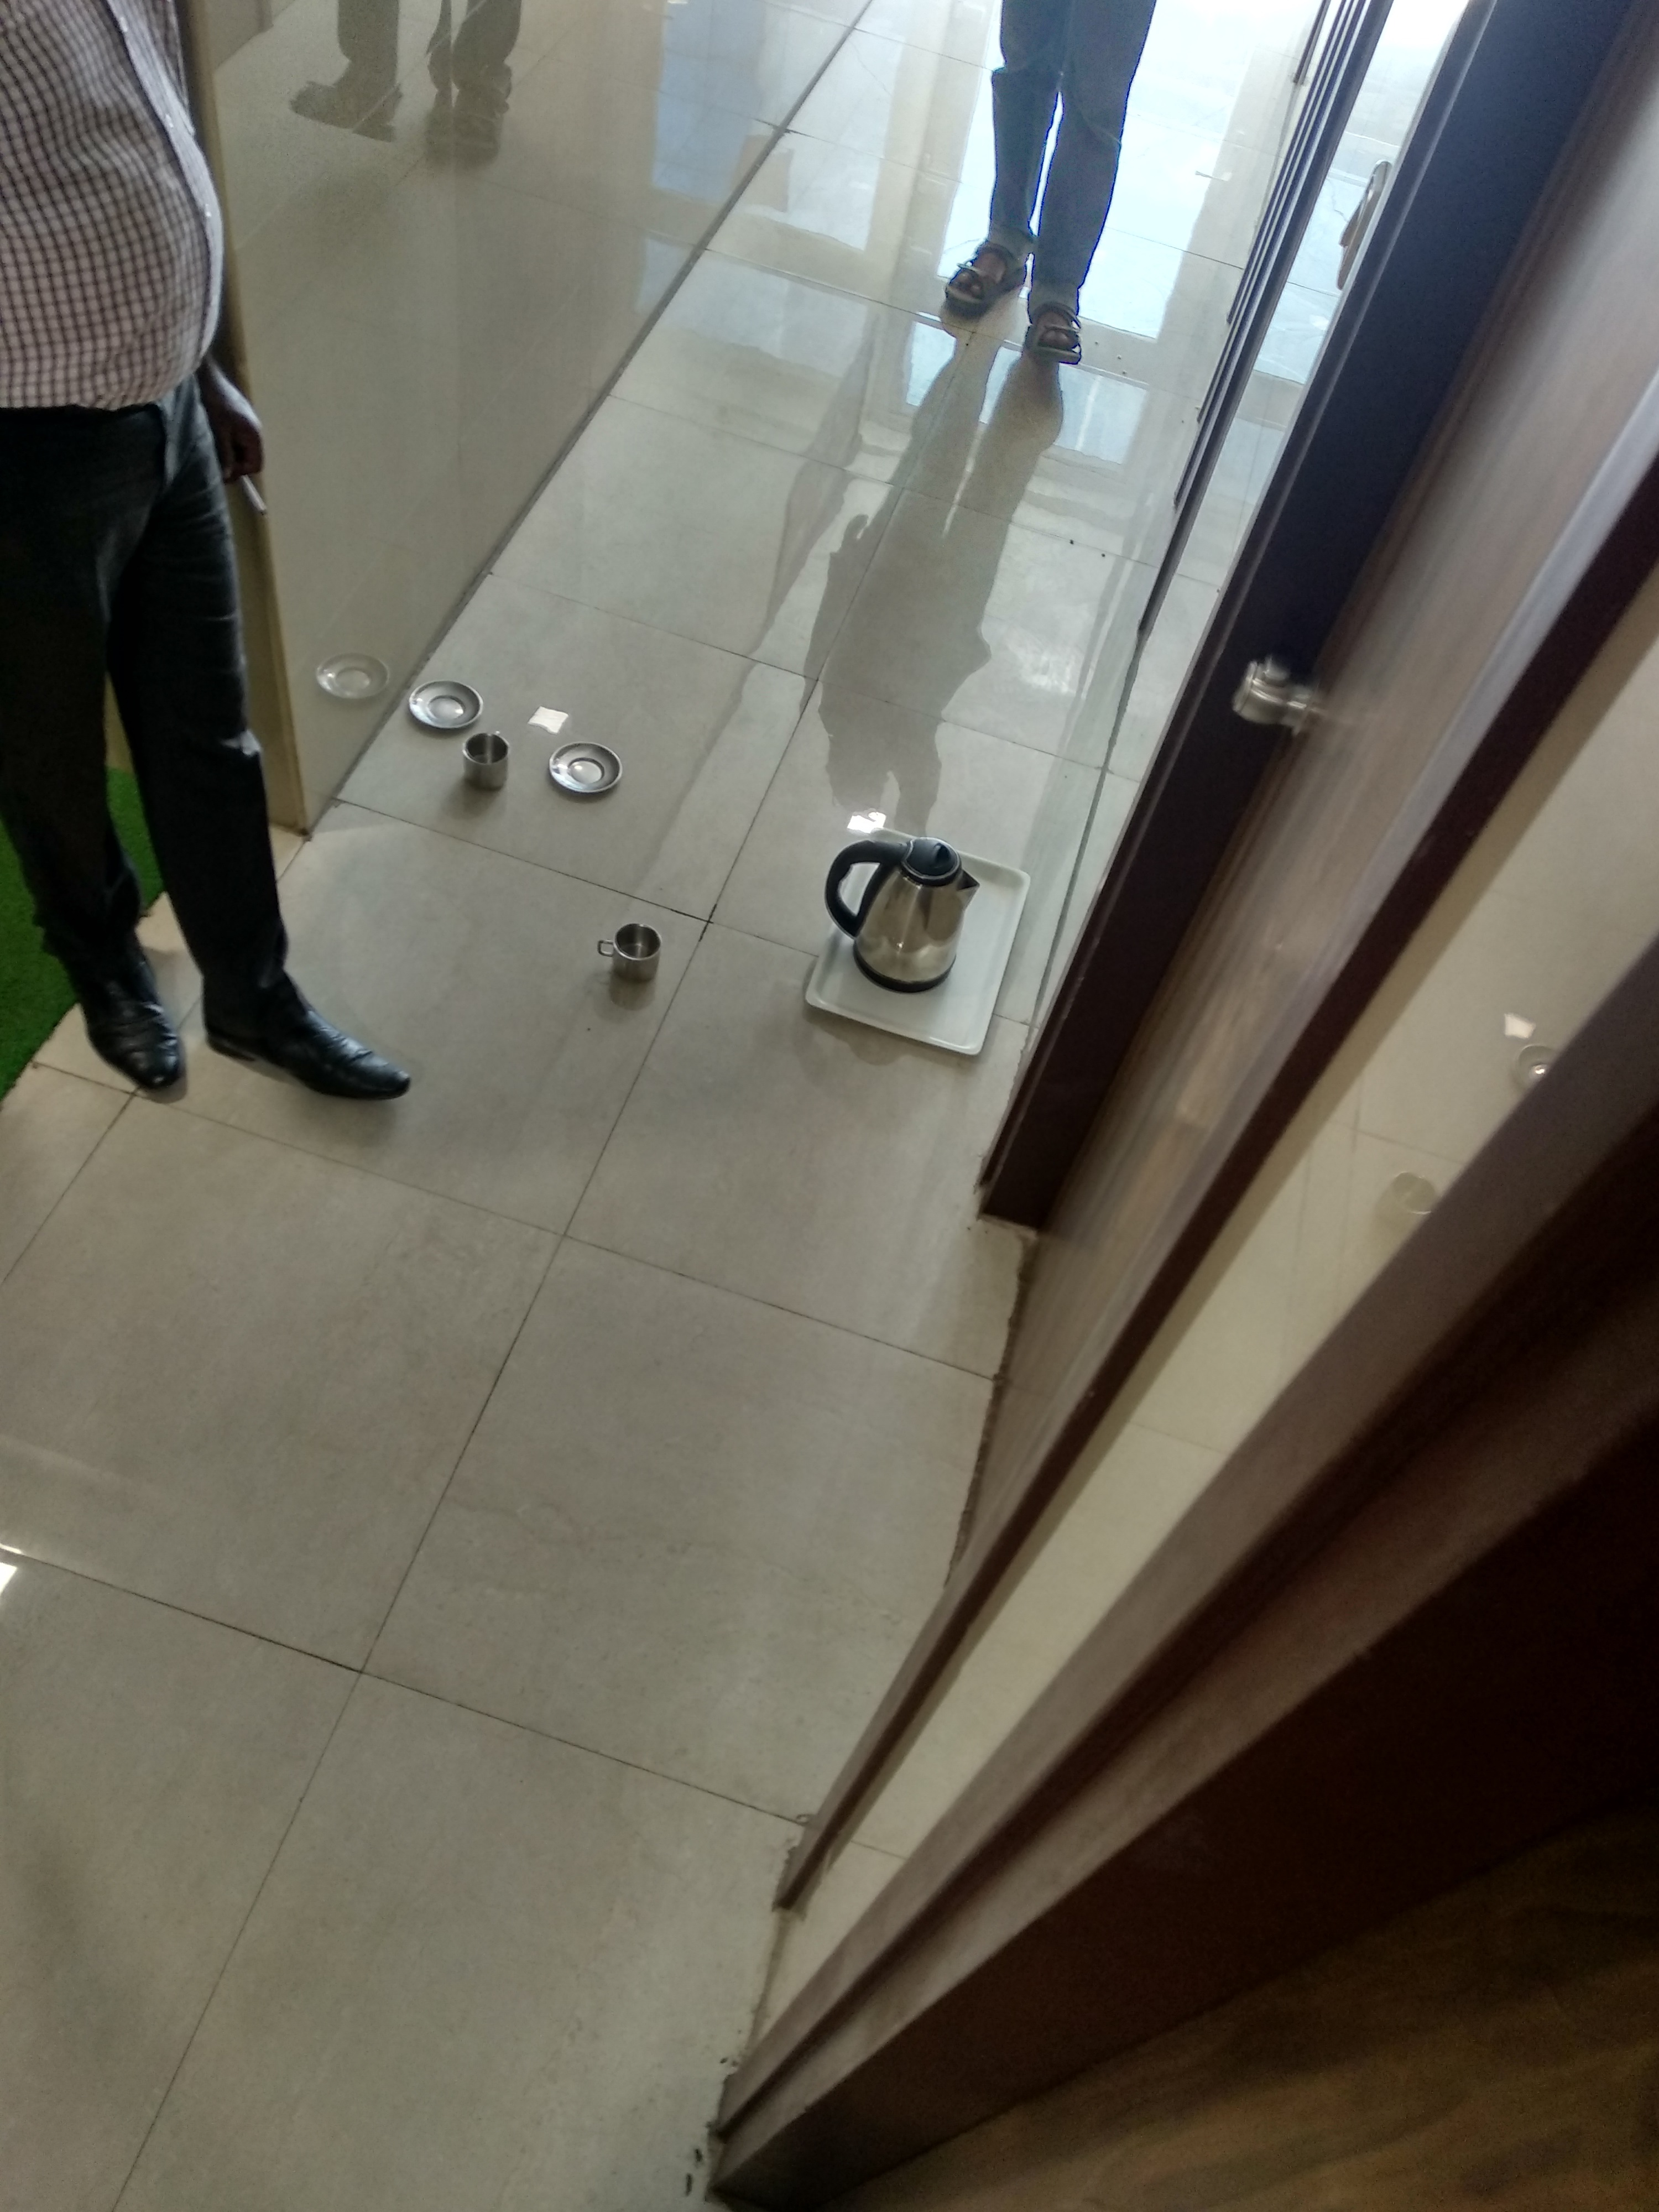CUP: (464, 726, 512, 803), (612, 928, 664, 991)
FLASK: (873, 840, 969, 991)
